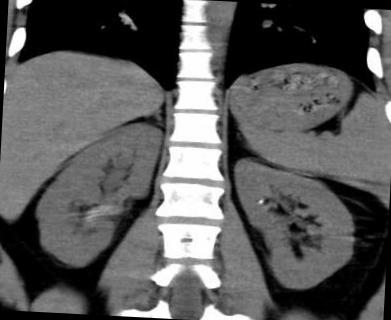Tas_Var: (257, 198, 265, 207)
